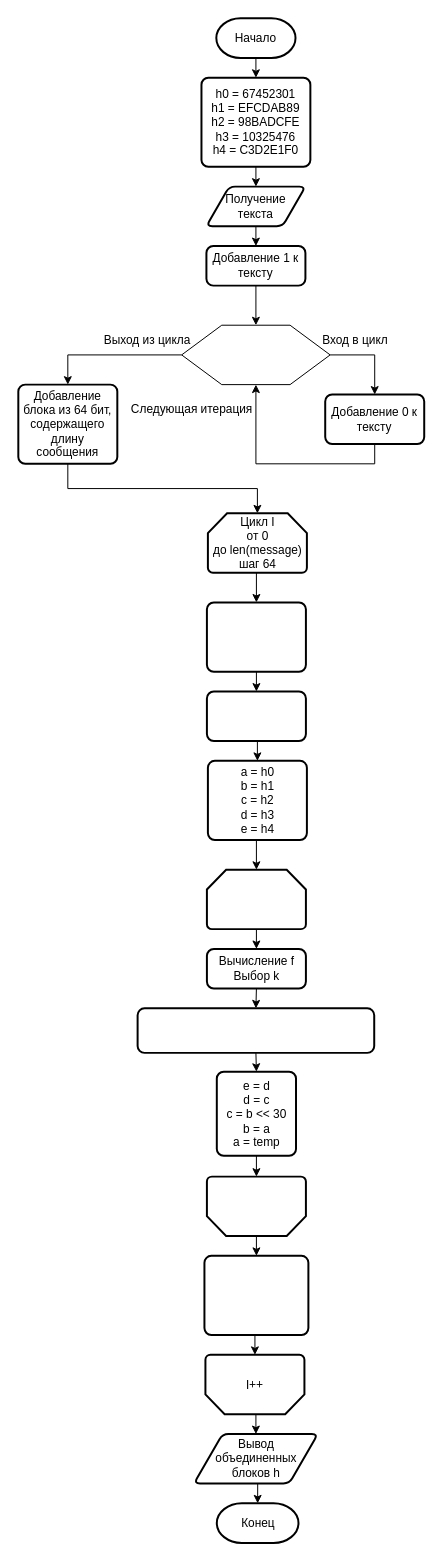
The diagram is 442 pixels wide and 1560 high, and some of its shapes have lost their labels. The box of each missing label's shape, as (x1, y1, x2, y2) in pixels:
h0 = h0 + a h1 = h1 + b h2 = h2 + c h3 = h3 + d h4 = h4 + e: (203, 1254, 309, 1336)
j++: (205, 1175, 306, 1237)
temp = (a << 5) + f(t, b, c, d) + e + Wi + Ki: (136, 1007, 375, 1053)
Пока длина текста % 64 != 56: (181, 324, 330, 385)
Разбиение I-того блока на 16 слов по 32 бита: (205, 601, 306, 672)
Расширение слов: (205, 690, 306, 742)
Цикл j от 0 до 80: (205, 868, 306, 930)
